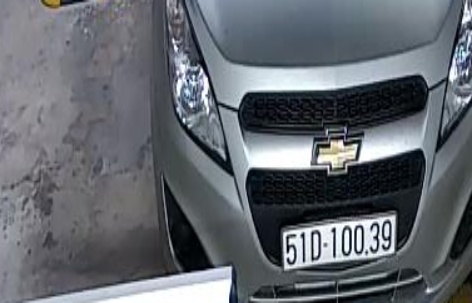plate: (276, 200, 397, 272)
